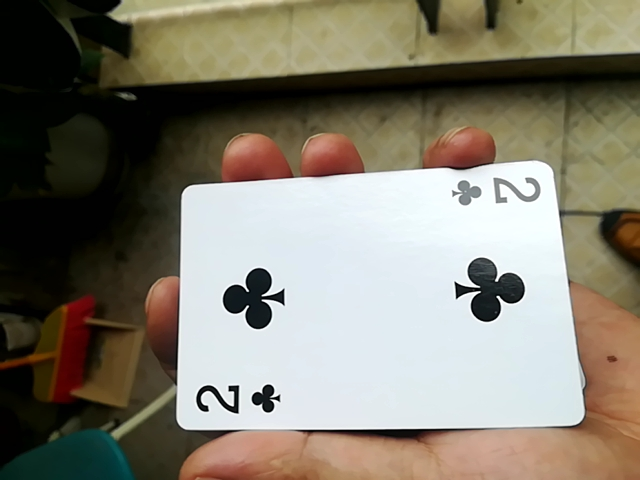mh 2: (170, 155, 573, 443)
